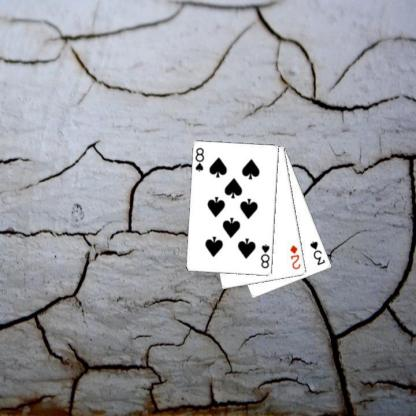2D: (288, 243, 302, 270)
3S: (308, 239, 326, 266)
8S: (258, 241, 271, 270), (193, 146, 205, 172)
